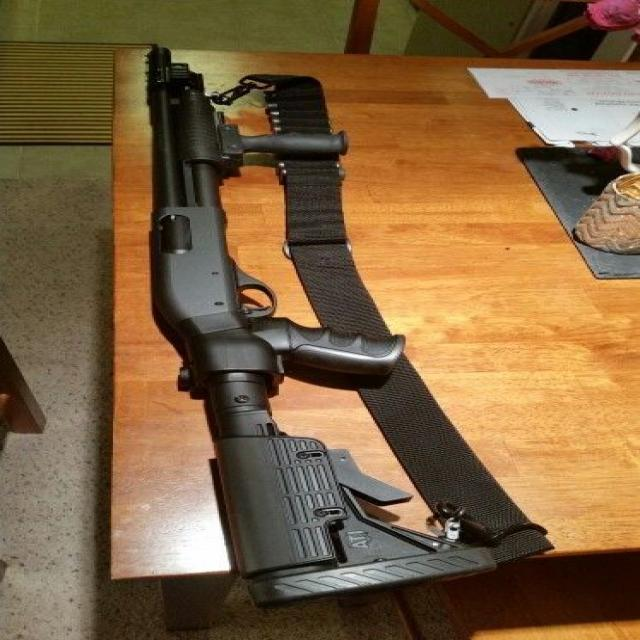shotgun: (133, 31, 544, 602)
